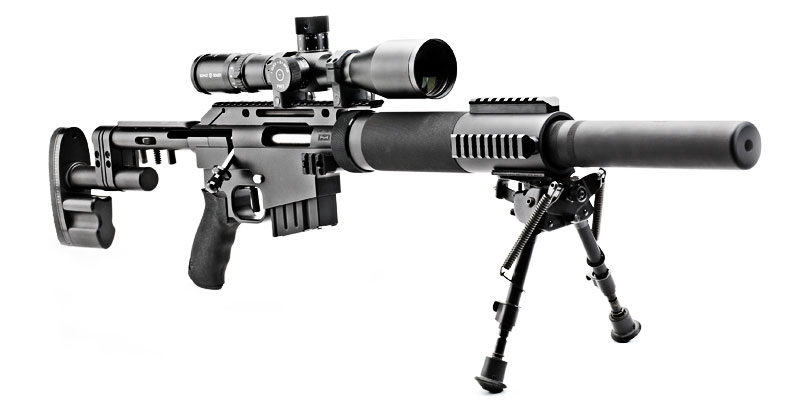Gun: (137, 38, 631, 246)
